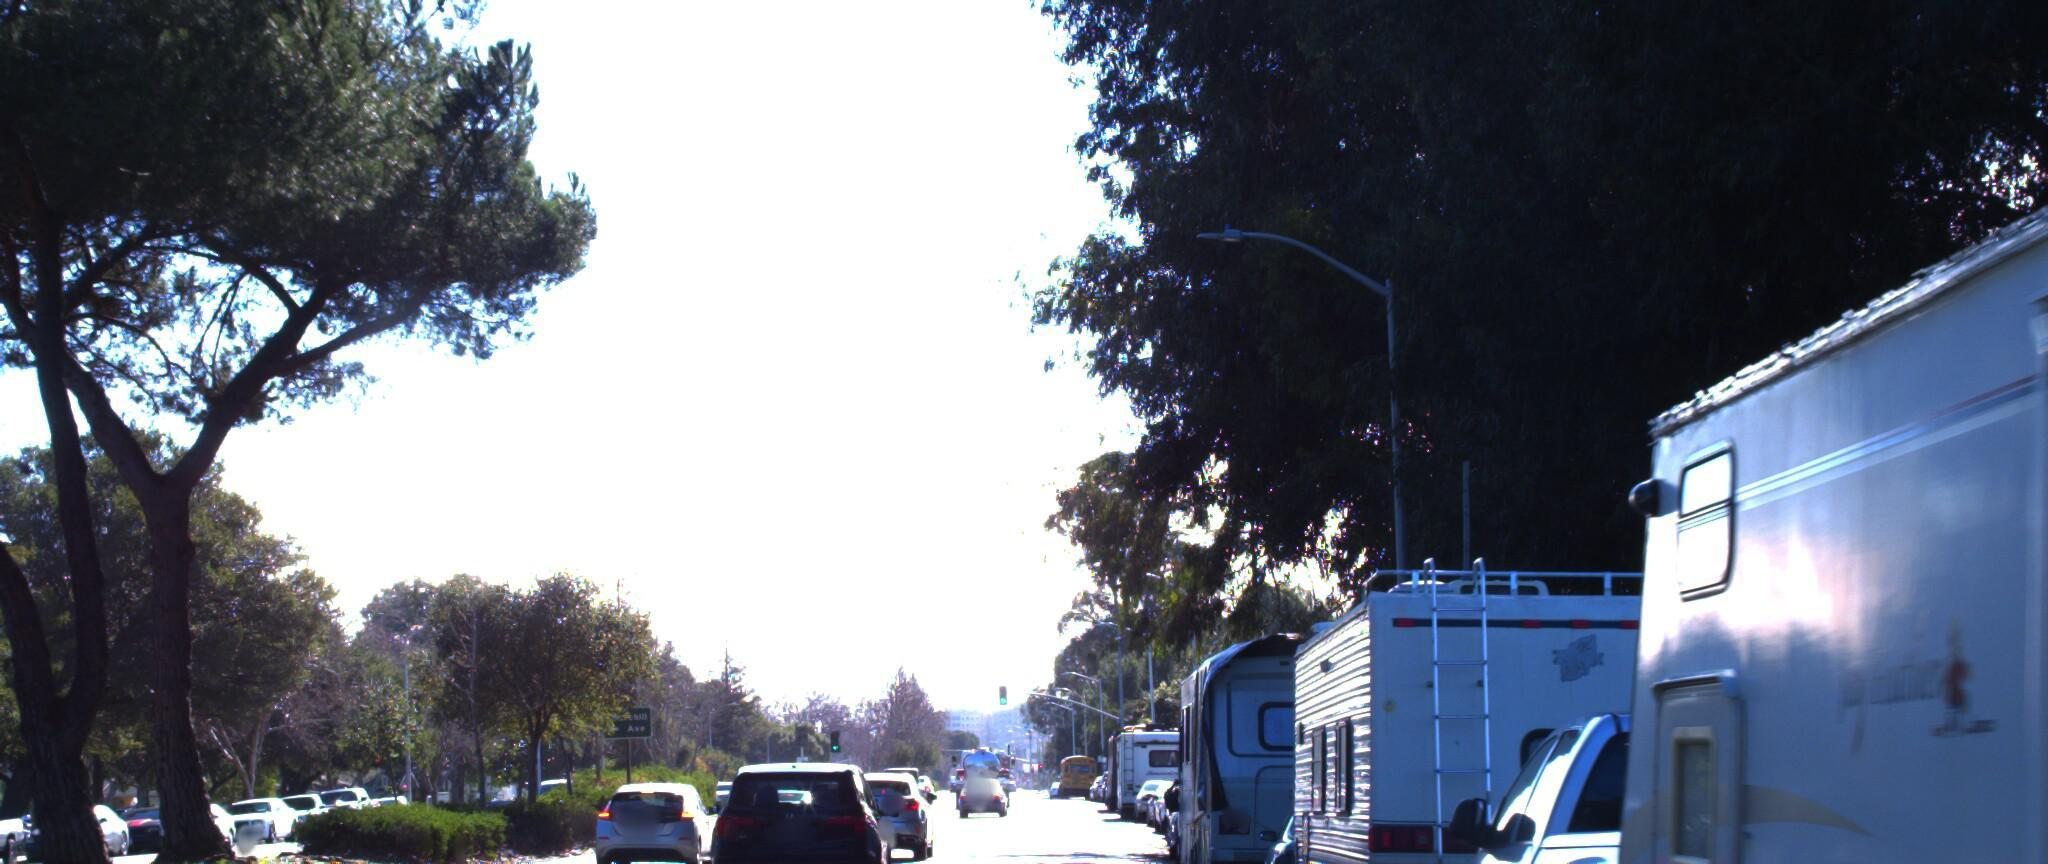car: (1400, 673, 2048, 864), (677, 764, 905, 864), (581, 762, 717, 856), (824, 770, 933, 855)
other_vehicle: (1512, 0, 2048, 864), (1273, 530, 1857, 864), (1174, 623, 1433, 864)
